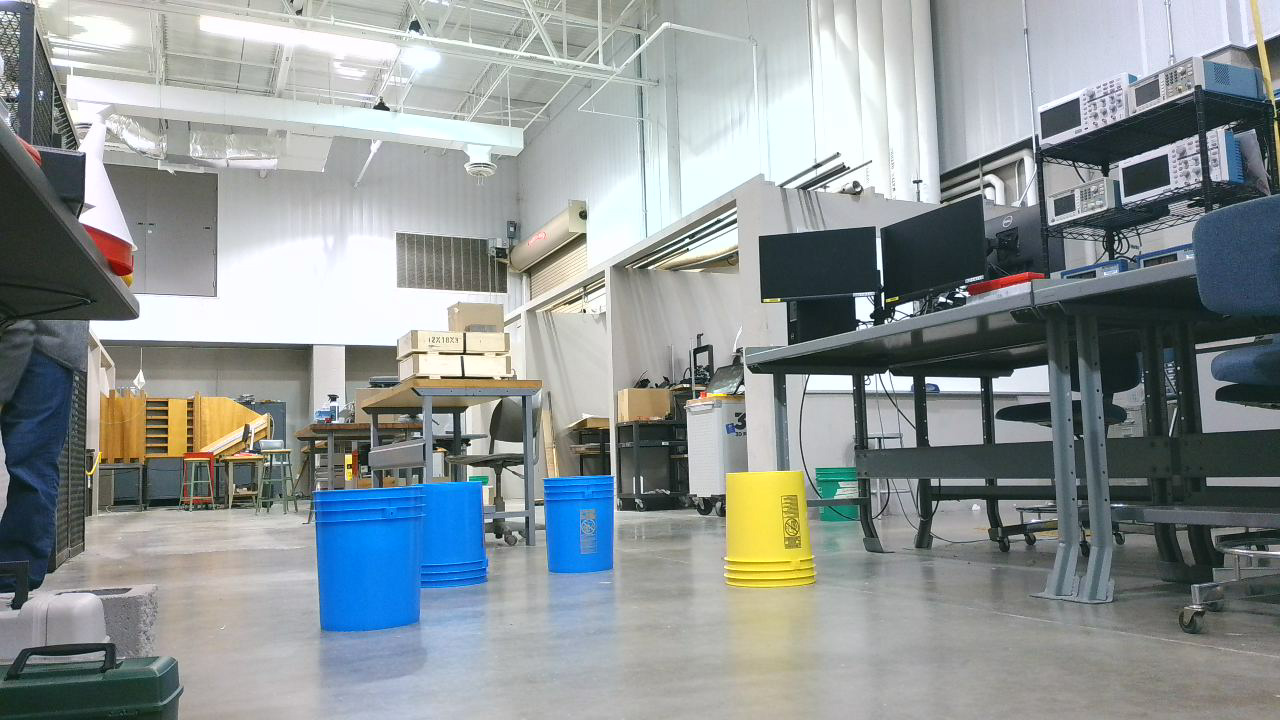blue_bucket: (312, 486, 432, 642), (546, 478, 624, 584)
yellow_bucket: (725, 473, 824, 602)
